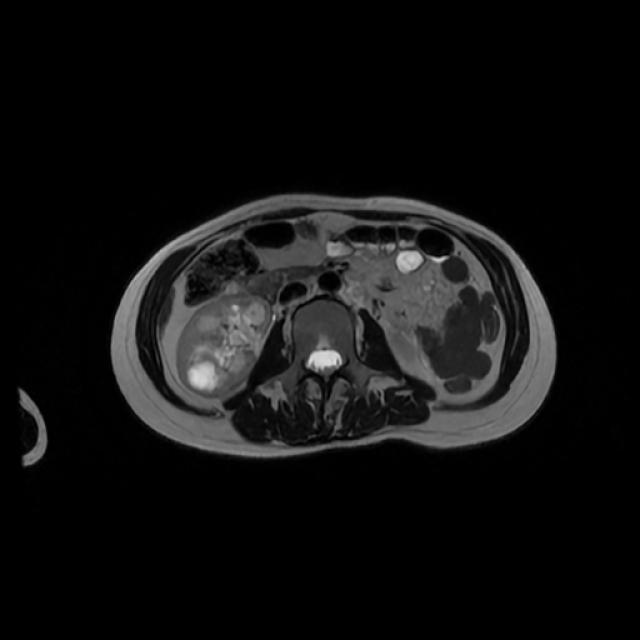sag: (177, 291, 273, 400)
sol: (393, 326, 418, 358)
